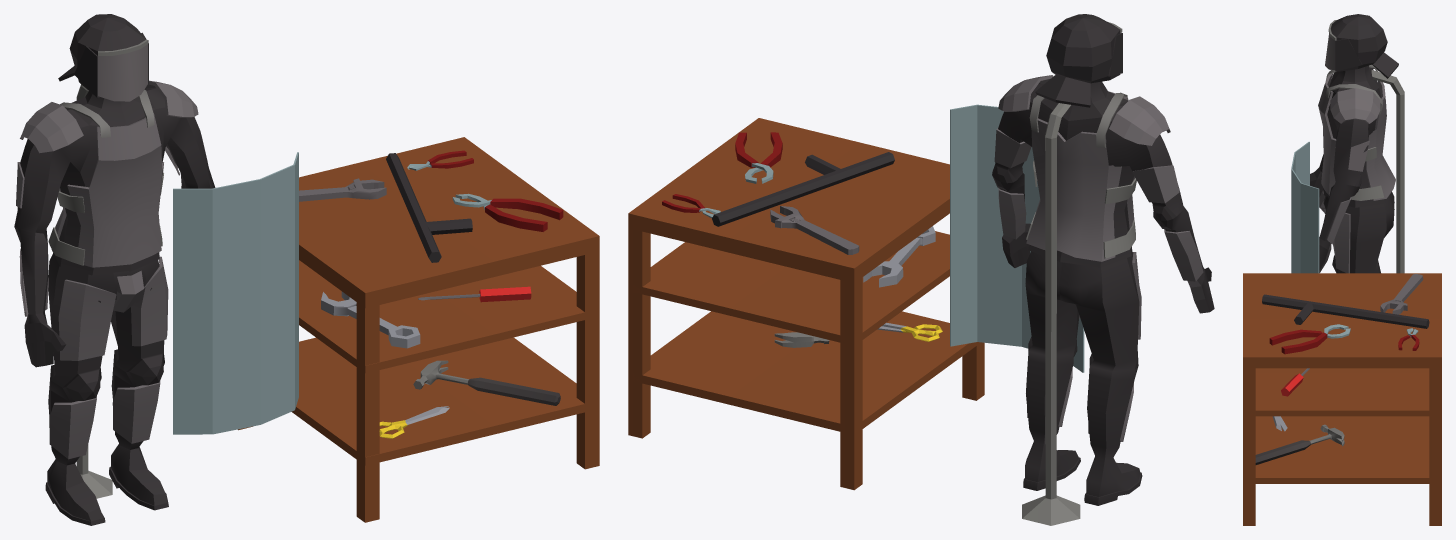
Rendered from g_o_RiotGearRepair.fbx.
3 views of the same model, side by side, from view 1: azimuth 30°, elevation 25°; view 2: azimuth 150°, elevation 25°; view 3: azimuth 270°, elevation 25° (orthographic). The views are drawn at different scales.
Visible parts, largest first — view 1: riot_gear_repair2; view 2: riot_gear_repair2; view 3: riot_gear_repair2.
Part boxes in pixels (box(x1,y1,x2,y2)): riot_gear_repair2: box(14, 14, 599, 525); riot_gear_repair2: box(628, 14, 1214, 525); riot_gear_repair2: box(1243, 14, 1441, 525).
Bounding box in the file's own units: 1.77 × 1.6 × 0.8.
